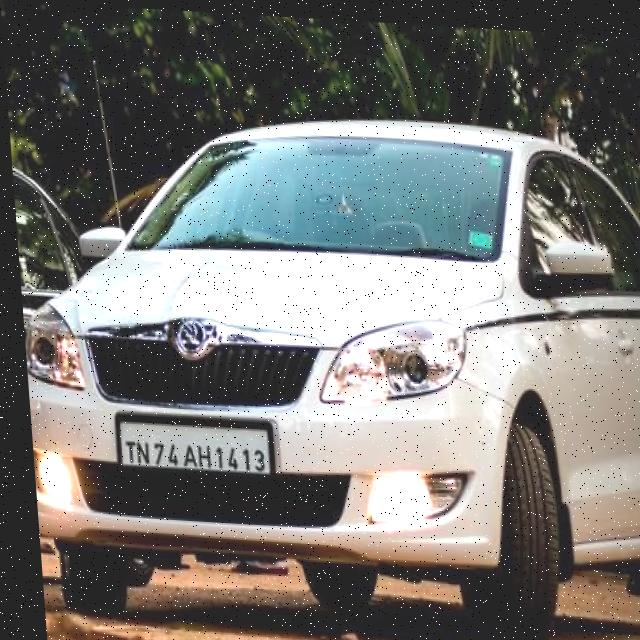plate: (112, 414, 264, 474)
